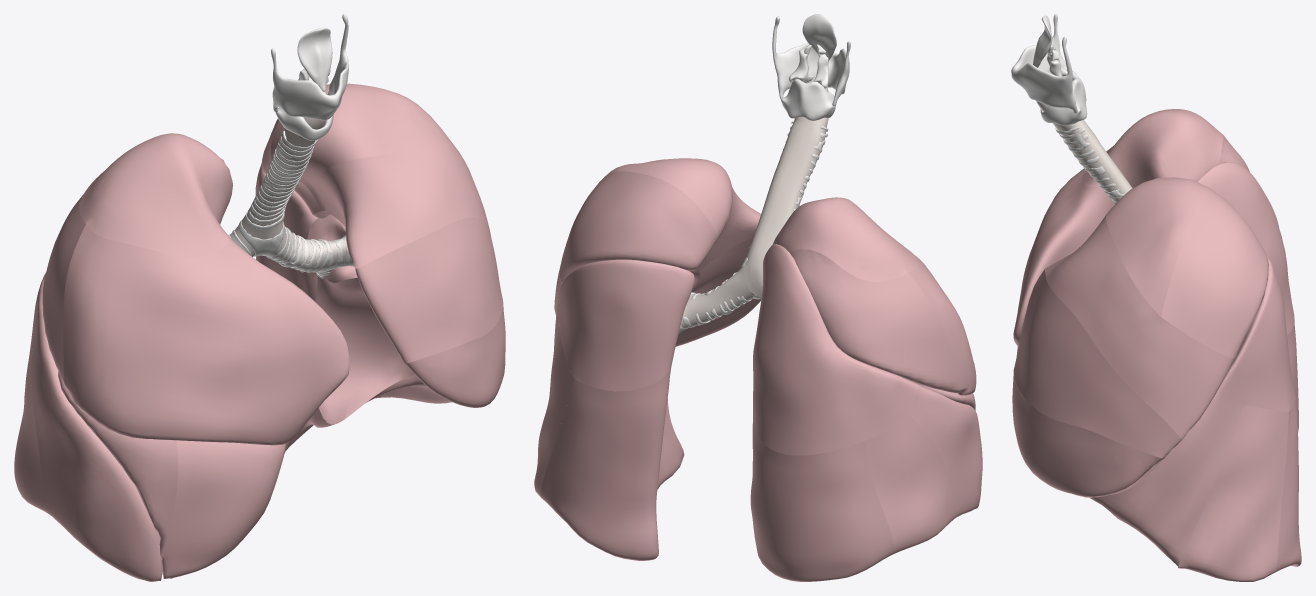
Rendered from VH_F_Lung.glb.
3 views of the same model, side by side, from view 1: azimuth 30°, elevation 25°; view 2: azimuth 150°, elevation 25°; view 3: azimuth 270°, elevation 25° (orthographic). The views are drawn at different scales.
Visible parts, largest first — view 1: VH_F_right_anterior_bronchopulmonary_segm, VH_F_right_anterior_basal_bronchopulmonary_segment, VH_F_lingula_superior_bronchopulmonary_segment, VH_F_right_apical_bronchopulmonary_segment, VH_F_left_anterior_bronchopulmonary_segment, VH_F_right_medial_bronchopulmonary_segment, VH_F_left_apical_bronchopulmonary_segment, VH_F_left_medial_basal_bronchopulmonary_segment, VH_F_lingula_inferior_bronchopulmonary_segment, VH_F_right_lateral_bronchopulmonary_segmennt, VH_F_right_posterior_bronchopulmonary_segment, VH_F_thyroid_cartilage (+14 smaller); view 2: VH_F_right_superior_bronchopulmonary_segment, VH_F_left_posterior_basal_bronchopulmonary_segment, VH_F_right_posterior_basal_bronchopulmonary_segment, VH_F_left_superior_bronchopulmonary_segment, VH_F_right_posterior_bronchopulmonary_segment, VH_F_left_posterior_bronchopulmonary_segment, VH_F_right_lateral_basal_bronchopulmonary_segment, VH_F_right_apical_bronchopulmonary_segment, VH_F_right_anterior_basal_bronchopulmonary_segment, VH_F_trachea, VH_F_left_apical_bronchopulmonary_segment, VH_F_right_anterior_bronchopulmonary_segm (+9 smaller); view 3: VH_F_left_anterior_bronchopulmonary_segment, VH_F_lingula_superior_bronchopulmonary_segment, VH_F_left_lateral_basal_bronchopulmonary_segment, VH_F_left_posterior_bronchopulmonary_segment, VH_F_left_anterior_basal_bronchopulmonary_segment, VH_F_lingula_inferior_bronchopulmonary_segment, VH_F_left_apical_bronchopulmonary_segment, VH_F_right_apical_bronchopulmonary_segment, VH_F_left_superior_bronchopulmonary_segment, VH_F_right_anterior_bronchopulmonary_segm, VH_F_right_superior_bronchopulmonary_segment, VH_F_thyroid_cartilage (+7 smaller).
Boxes of the visible parts, x1,y1,x2,y2 form: VH_F_right_anterior_bronchopulmonary_segm: (63, 224, 349, 445); VH_F_right_anterior_basal_bronchopulmonary_segment: (31, 328, 162, 581); VH_F_lingula_superior_bronchopulmonary_segment: (355, 217, 503, 363); VH_F_right_apical_bronchopulmonary_segment: (79, 133, 232, 257); VH_F_left_anterior_bronchopulmonary_segment: (320, 146, 488, 268); VH_F_right_medial_bronchopulmonary_segment: (160, 440, 285, 578); VH_F_left_apical_bronchopulmonary_segment: (270, 83, 458, 211); VH_F_left_medial_basal_bronchopulmonary_segment: (316, 276, 414, 424); VH_F_lingula_inferior_bronchopulmonary_segment: (405, 304, 505, 407); VH_F_right_lateral_bronchopulmonary_segmennt: (58, 371, 178, 555); VH_F_right_posterior_bronchopulmonary_segment: (42, 195, 85, 386); VH_F_thyroid_cartilage: (271, 14, 348, 120); VH_F_right_superior_bronchopulmonary_segment: (753, 244, 918, 455); VH_F_left_posterior_basal_bronchopulmonary_segment: (540, 366, 684, 560); VH_F_right_posterior_basal_bronchopulmonary_segment: (750, 418, 893, 581); VH_F_left_superior_bronchopulmonary_segment: (557, 259, 694, 391); VH_F_right_posterior_bronchopulmonary_segment: (790, 249, 960, 392); VH_F_left_posterior_bronchopulmonary_segment: (560, 171, 716, 282); VH_F_right_lateral_basal_bronchopulmonary_segment: (865, 413, 955, 554); VH_F_right_apical_bronchopulmonary_segment: (772, 197, 917, 281); VH_F_right_anterior_basal_bronchopulmonary_segment: (907, 384, 982, 517); VH_F_trachea: (743, 87, 828, 298); VH_F_left_apical_bronchopulmonary_segment: (606, 158, 732, 240); VH_F_right_anterior_bronchopulmonary_segm: (908, 254, 976, 395); VH_F_left_anterior_bronchopulmonary_segment: (1045, 215, 1235, 439); VH_F_lingula_superior_bronchopulmonary_segment: (1013, 269, 1182, 458); VH_F_left_lateral_basal_bronchopulmonary_segment: (1178, 405, 1288, 581); VH_F_left_posterior_bronchopulmonary_segment: (1161, 188, 1268, 358); VH_F_left_anterior_basal_bronchopulmonary_segment: (1089, 400, 1243, 567); VH_F_lingula_inferior_bronchopulmonary_segment: (1012, 372, 1163, 497); VH_F_left_apical_bronchopulmonary_segment: (1106, 177, 1210, 316); VH_F_right_apical_bronchopulmonary_segment: (1081, 109, 1223, 187); VH_F_left_superior_bronchopulmonary_segment: (1211, 256, 1295, 412); VH_F_right_anterior_bronchopulmonary_segm: (1013, 168, 1114, 347); VH_F_right_superior_bronchopulmonary_segment: (1197, 162, 1294, 335); VH_F_thyroid_cartilage: (1011, 14, 1077, 113).
Size of the model in its own units: 0.2511 by 0.2968 by 0.1531.
